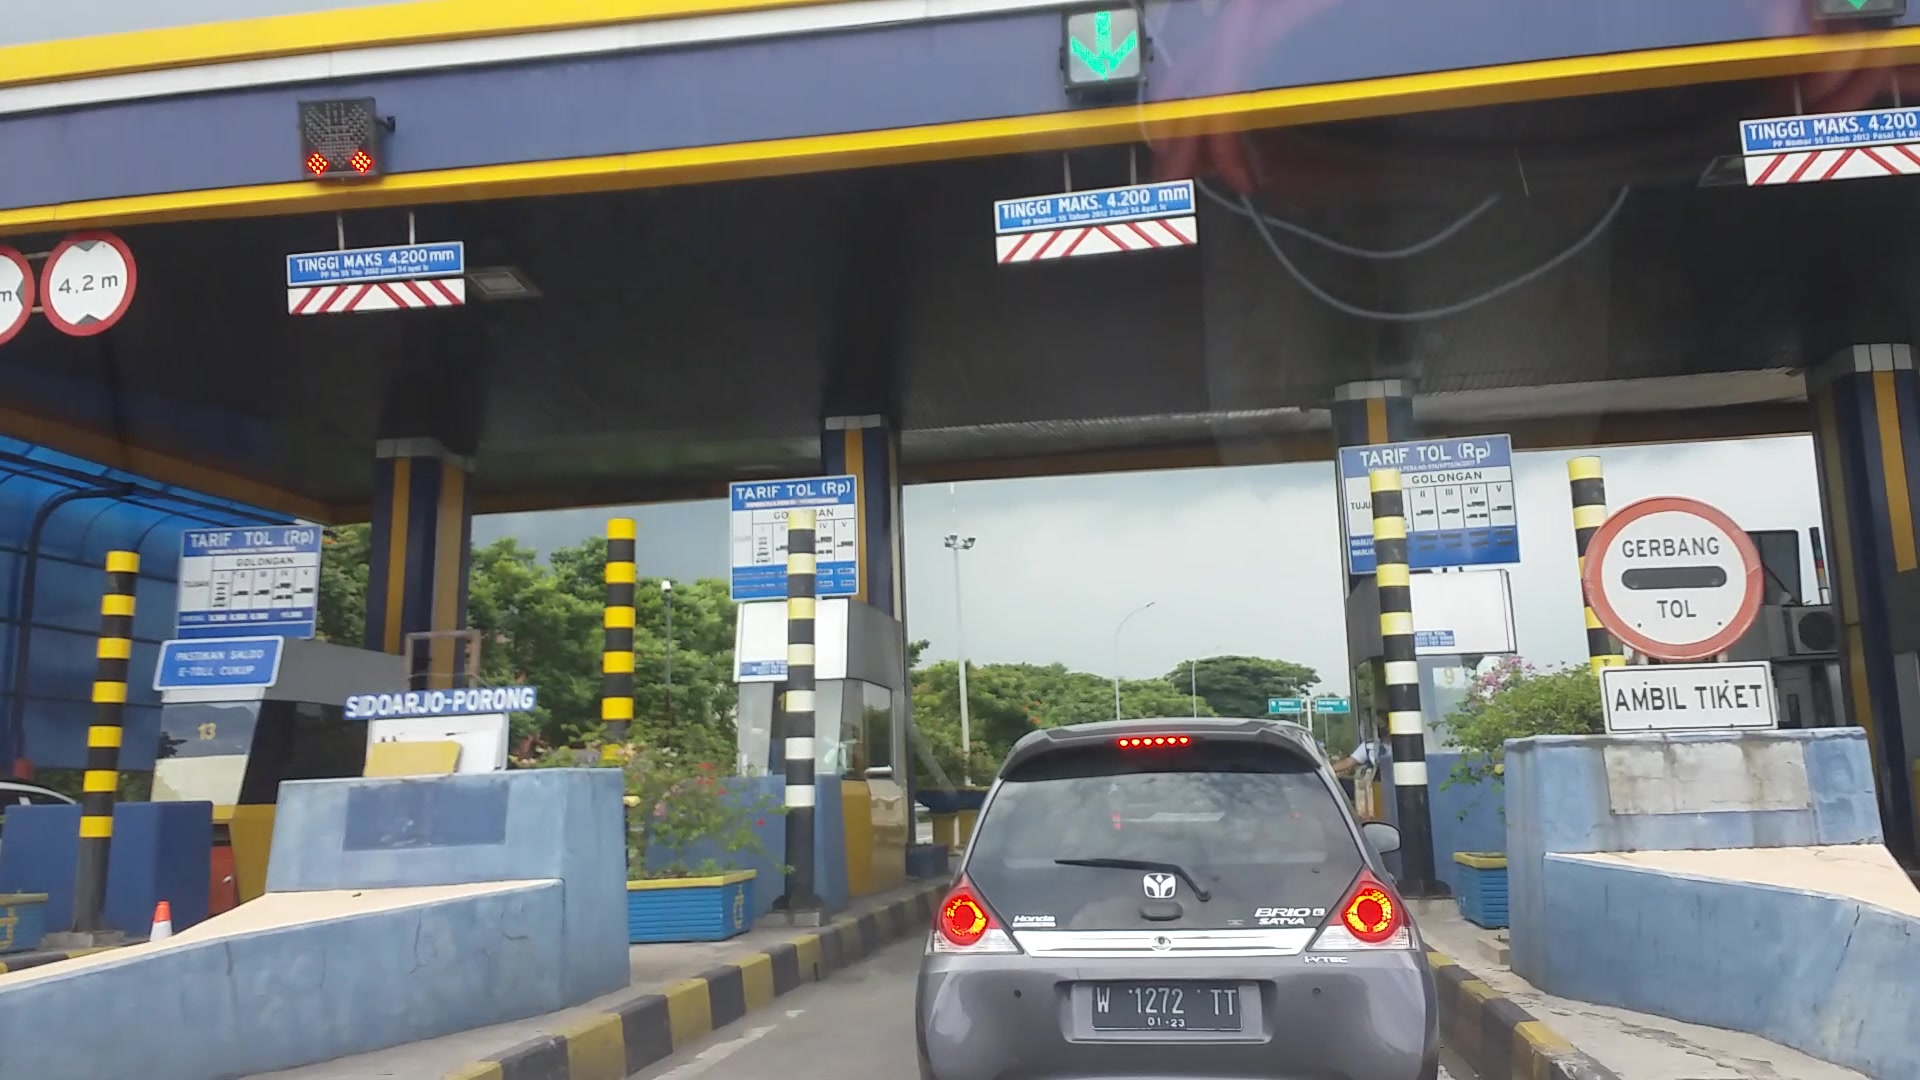plate_positive: (1093, 982, 1241, 1030)
